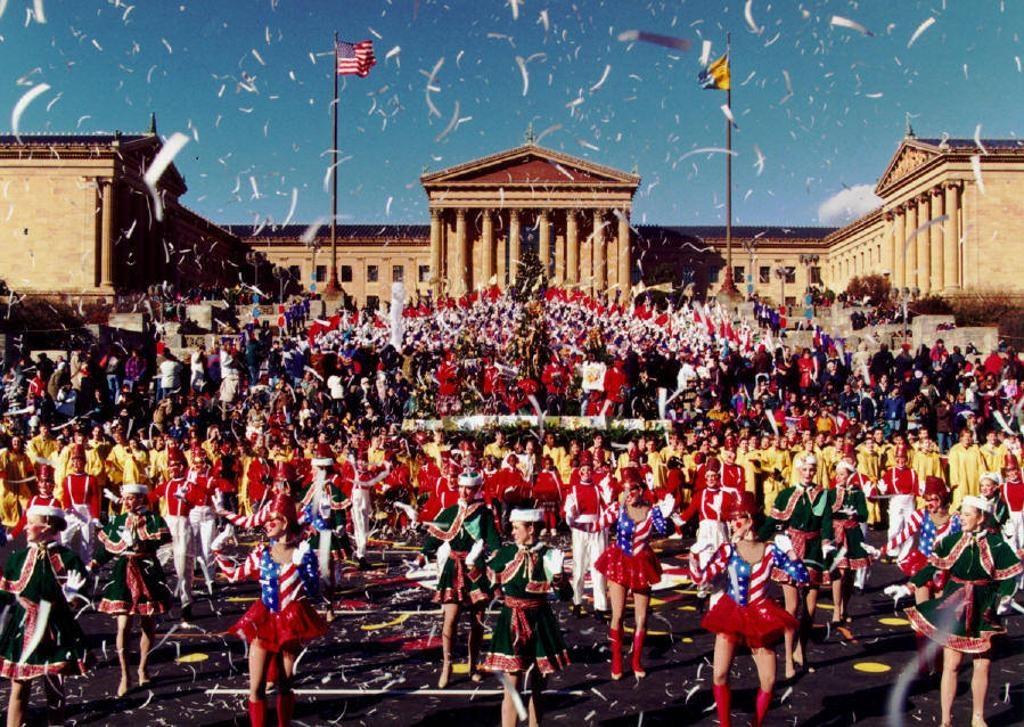human_face: (22, 515, 46, 541), (958, 505, 978, 530), (730, 514, 748, 536), (512, 521, 528, 543), (122, 493, 138, 513), (264, 516, 280, 536), (625, 486, 641, 506), (800, 462, 814, 482), (309, 464, 323, 482), (836, 468, 850, 486), (460, 484, 474, 500), (980, 479, 994, 495), (272, 478, 284, 496), (926, 494, 938, 512), (704, 471, 718, 485), (578, 467, 592, 480), (169, 464, 181, 478), (192, 450, 204, 464), (724, 448, 734, 464), (440, 463, 452, 475), (542, 434, 554, 446), (842, 456, 854, 468), (1006, 468, 1018, 480), (449, 475, 459, 488), (38, 479, 48, 491), (700, 442, 708, 456), (804, 429, 812, 442), (570, 442, 580, 452), (592, 436, 602, 446), (834, 449, 844, 459), (358, 457, 366, 469), (630, 459, 638, 471), (740, 440, 748, 452), (771, 434, 779, 446), (875, 430, 883, 442), (372, 436, 380, 448), (157, 404, 165, 416), (486, 458, 494, 469), (626, 442, 632, 456), (92, 426, 100, 436), (73, 459, 81, 469), (273, 444, 281, 454), (260, 450, 268, 460), (120, 409, 128, 419), (750, 436, 758, 446), (834, 436, 842, 446), (894, 434, 902, 444), (896, 455, 904, 465), (963, 432, 971, 442), (282, 433, 290, 443), (166, 441, 176, 449), (317, 432, 325, 442), (398, 440, 406, 450), (594, 467, 602, 477), (496, 432, 502, 444), (637, 438, 643, 450), (781, 436, 787, 448), (988, 433, 996, 442), (926, 442, 934, 451), (256, 436, 264, 445), (113, 434, 121, 442), (128, 441, 136, 449), (919, 430, 927, 438), (76, 432, 82, 442), (212, 440, 218, 450), (544, 460, 550, 470), (526, 442, 532, 452), (648, 440, 654, 450), (678, 442, 684, 452), (671, 436, 677, 446), (761, 436, 767, 446), (806, 441, 812, 451), (788, 432, 794, 442), (818, 434, 824, 444), (380, 426, 386, 436), (509, 455, 515, 464), (922, 439, 928, 448), (1015, 438, 1021, 447), (40, 427, 46, 435), (307, 440, 313, 448), (306, 417, 312, 425), (346, 413, 352, 421), (118, 425, 124, 433), (711, 434, 717, 442), (156, 437, 160, 448), (303, 402, 309, 408), (366, 408, 372, 414), (1002, 406, 1008, 412), (850, 418, 856, 424), (1008, 437, 1014, 443), (866, 440, 870, 448), (56, 442, 62, 446), (62, 428, 68, 432), (191, 430, 195, 436), (175, 418, 179, 424), (795, 408, 799, 414), (16, 439, 18, 447)
